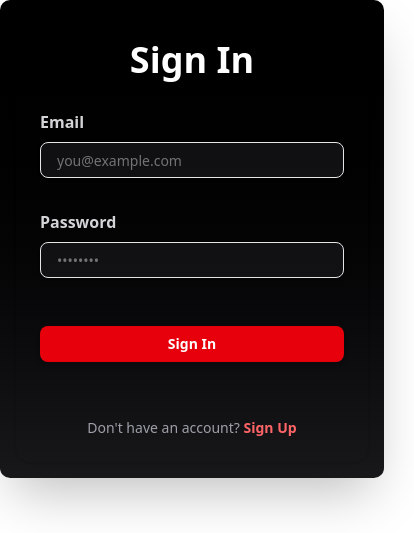
LoginForm › switches to Sign Up mode when link is clicked
Click the text "Sign Up".
click(270, 428)  # box [244,418,297,437]
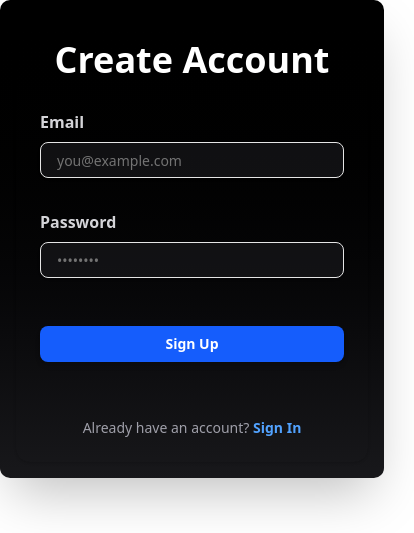
Check: the text "Create Account" is shown, box [40,40,344,80]
Check: the button "Sign Up" is shown, box [40,326,344,362]
